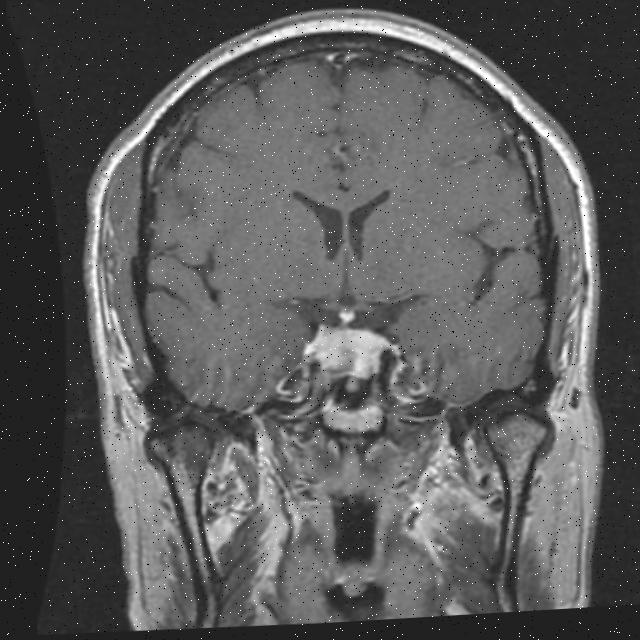Pituitary: (311, 319, 388, 382), (337, 304, 356, 321)
